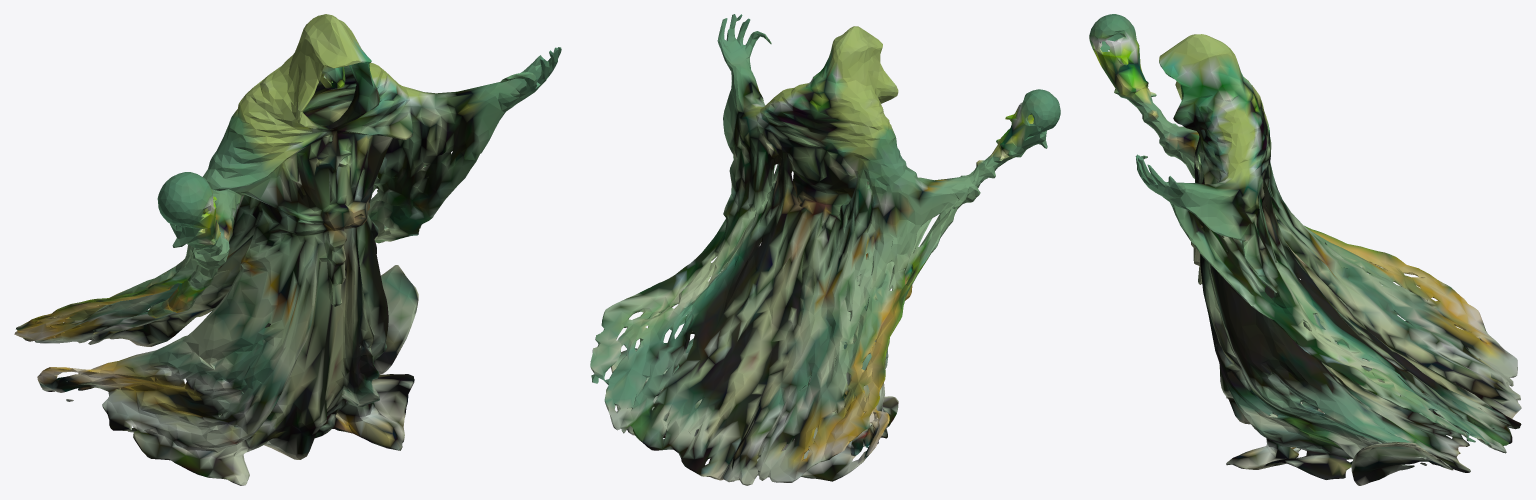
File: dokkaebiClub.glb
3 renders of one model, left to right at view 1: azimuth 30°, elevation 25°; view 2: azimuth 150°, elevation 25°; view 3: azimuth 270°, elevation 25°, orthographic. The views are drawn at different scales.
Visible parts, largest first — view 1: world; view 2: world; view 3: world.
Part boxes in pixels (bbox=[...]): world: bbox=[14, 14, 561, 485]; world: bbox=[590, 14, 1060, 485]; world: bbox=[1089, 14, 1521, 485].
Size of the model in its own units: 0.9591 by 1 by 0.9898.
